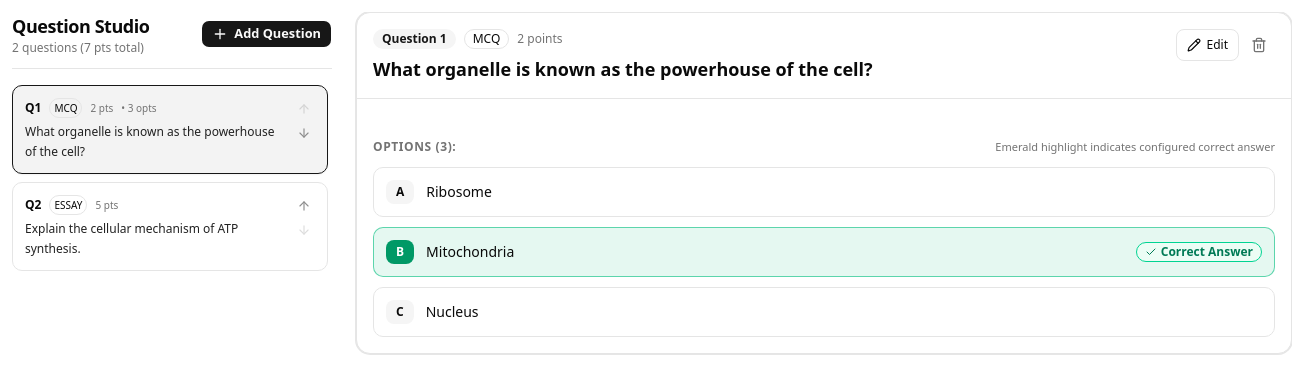
Test: QuestionManager Component › Rendering & States › switches selected question when a question card is clicked
This screenshot has width=1292, height=372.
Note: Click Question 2 card
Click the text "Explain the cellular mechanism of ATP synthesis." at (132, 238), box [25,220,238,256]
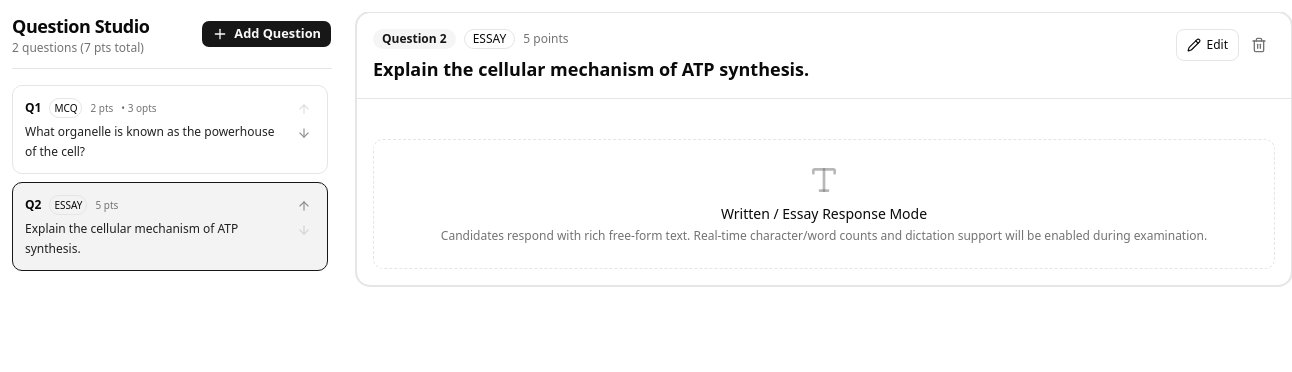
expect the text "Written / Essay Response Mode" is shown: met, box [721,204,927,223]
